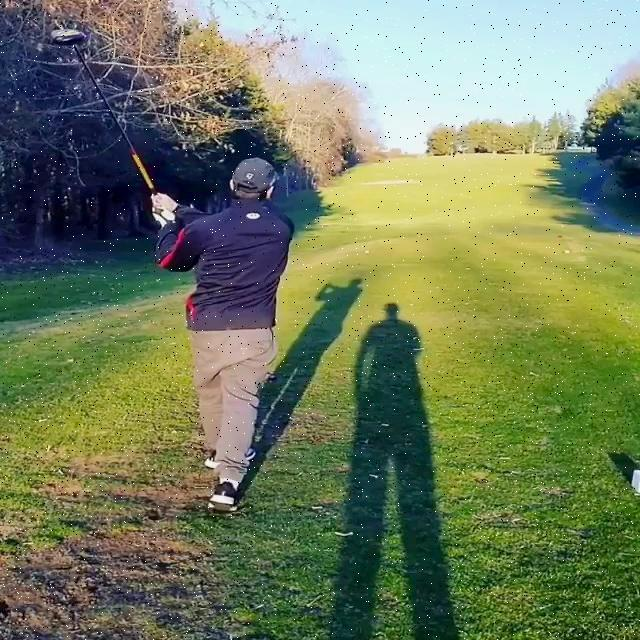golf club-handle: (49, 28, 156, 194)
golf club-head: (50, 28, 86, 45)
